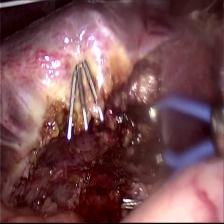Bipolar: (122, 97, 224, 171)
